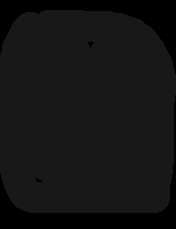fp: (2, 3, 175, 215)
